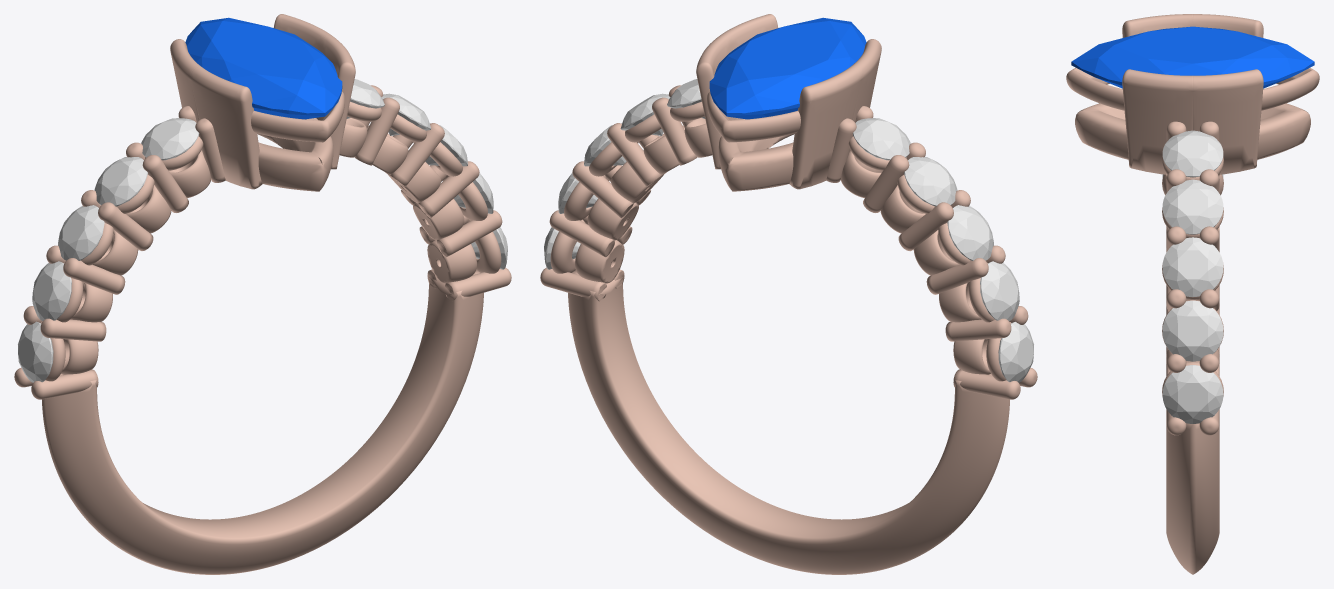
File: bluesapphire-marquise-rosegold-halfmoonbezel-knifeedge-11stone.glb
The picture shows the model from 3 angles, left to right: view 1: azimuth 30°, elevation 25°; view 2: azimuth 150°, elevation 25°; view 3: azimuth 270°, elevation 25°; orthographic projection. The views are drawn at different scales.
Parts seen in each view (by area): view 1: metal.003, stone.002, dia.024, dia.025, dia.023, dia.026, dia.002, dia.030, dia.031; view 2: metal.003, stone.002, dia.024, dia.025, dia.023, dia.026, dia.002, dia.030, dia.031; view 3: metal.003, stone.002, dia.028, dia.029, dia.027, dia.030, dia.031.
Boxes of the visible parts, box(x1,y1,x2,y2) form: metal.003: box(14, 14, 511, 574); stone.002: box(185, 17, 342, 119); dia.024: box(58, 205, 104, 260); dia.025: box(94, 157, 147, 206); dia.023: box(32, 261, 71, 320); dia.026: box(141, 118, 199, 160); dia.002: box(18, 321, 53, 382); dia.030: box(381, 93, 431, 135); dia.031: box(346, 79, 384, 118); metal.003: box(540, 14, 1037, 574); stone.002: box(709, 17, 866, 119); dia.024: box(947, 205, 993, 260); dia.025: box(904, 157, 957, 206); dia.023: box(980, 261, 1019, 320); dia.026: box(852, 118, 910, 160); dia.002: box(998, 321, 1033, 382); dia.030: box(620, 93, 670, 135); dia.031: box(667, 79, 705, 118); metal.003: box(1066, 14, 1319, 574); stone.002: box(1071, 26, 1314, 88); dia.028: box(1162, 300, 1223, 361); dia.029: box(1162, 237, 1223, 296); dia.027: box(1162, 365, 1223, 423); dia.030: box(1162, 179, 1223, 234); dia.031: box(1162, 130, 1223, 177).
Size of the model in its own units: 22.1 by 22.93 by 10.4.
